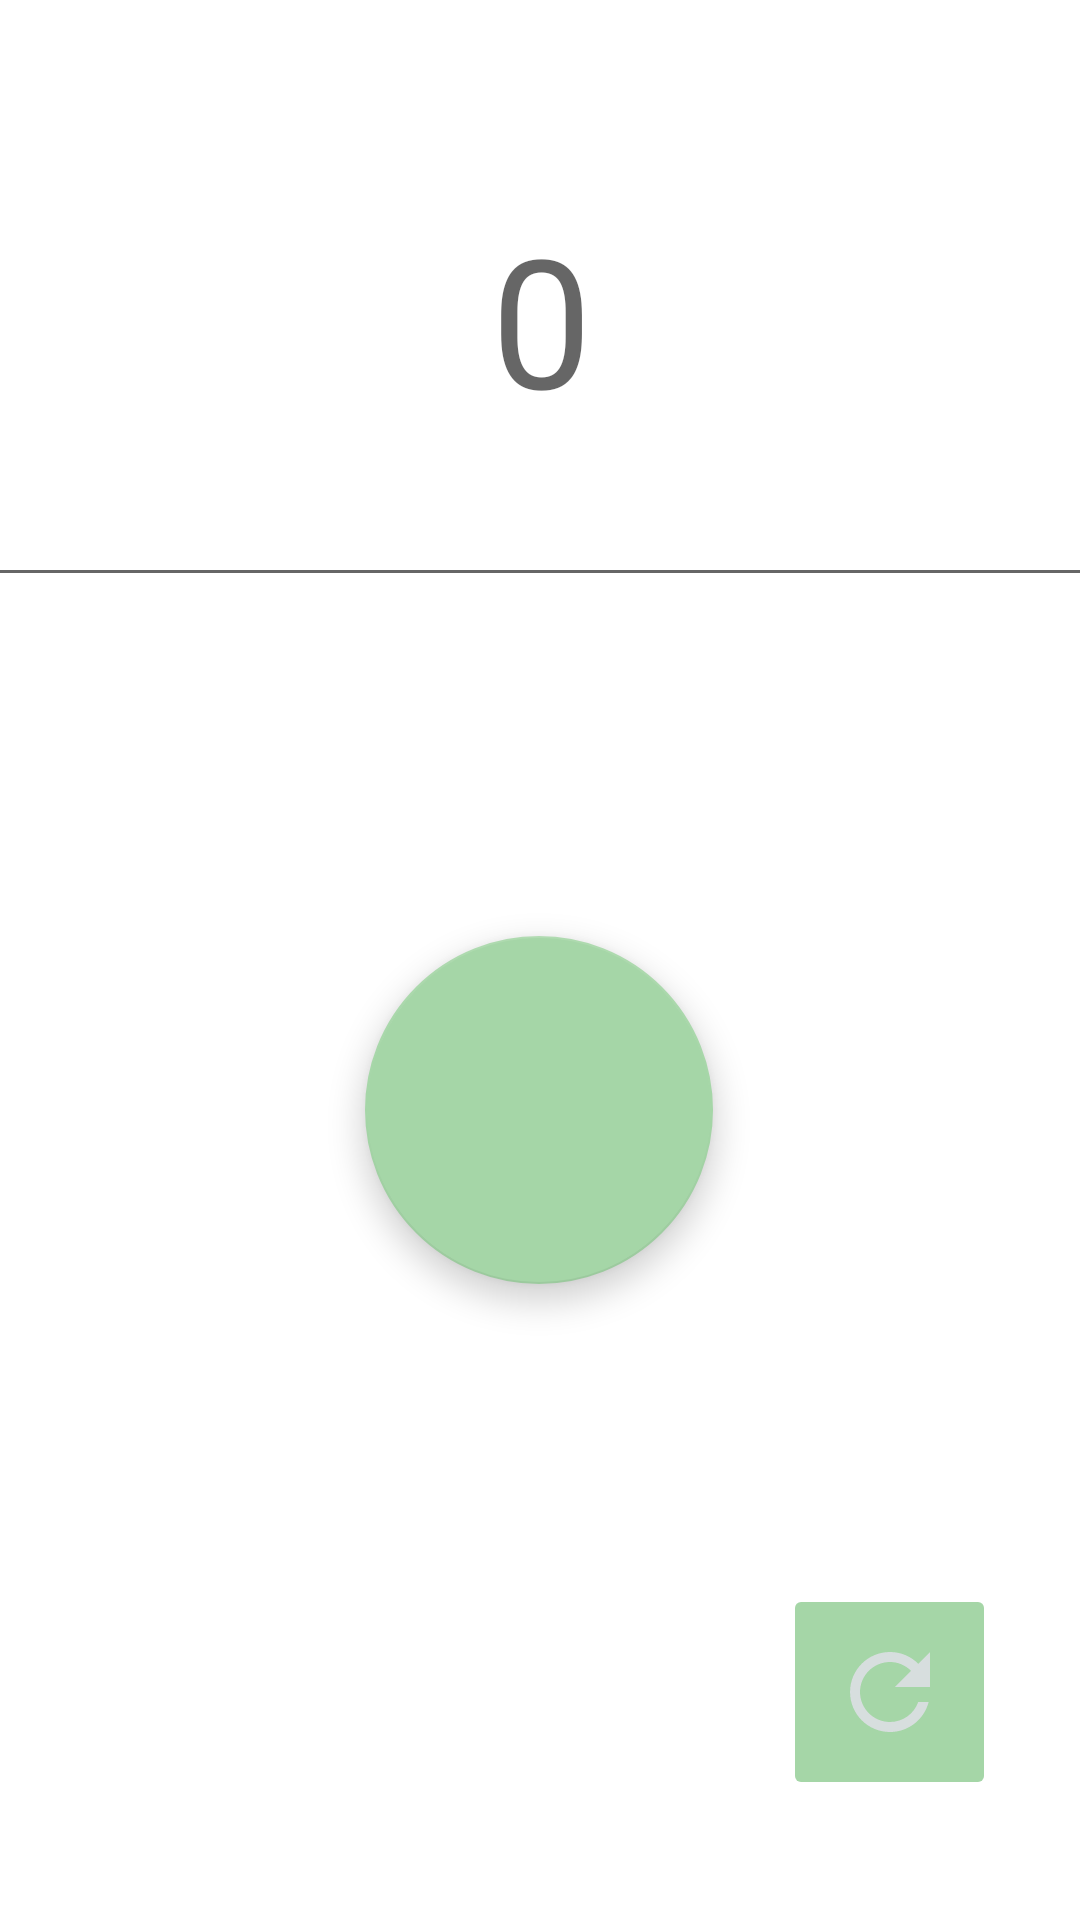

Locate icon controls on the screen. Image size 1080w x 1920h, boxes as region(x1, y1, x2, y2).
reset counter: region(795, 1602, 984, 1782)
